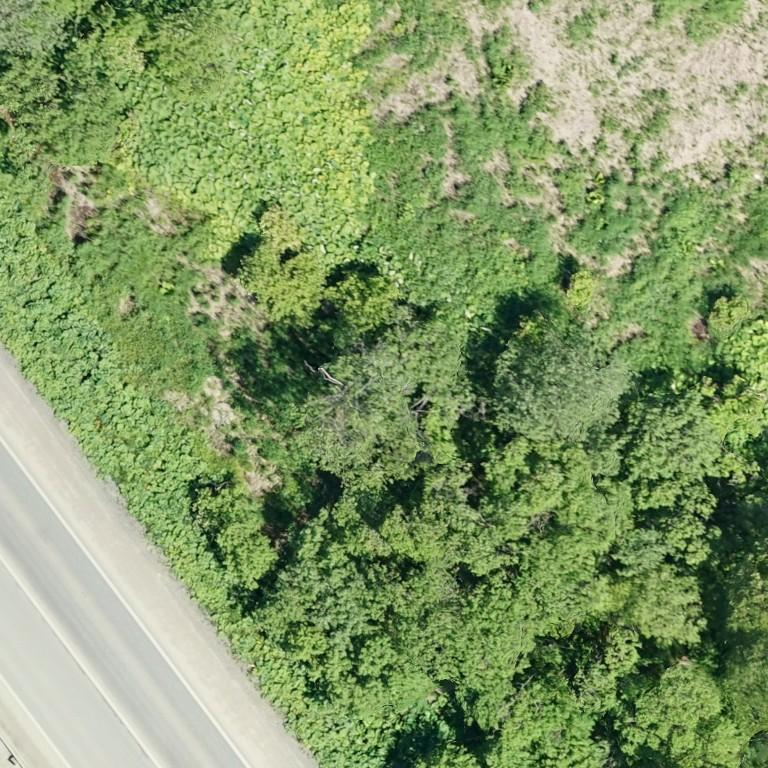hogweed: (0, 186, 464, 767)
